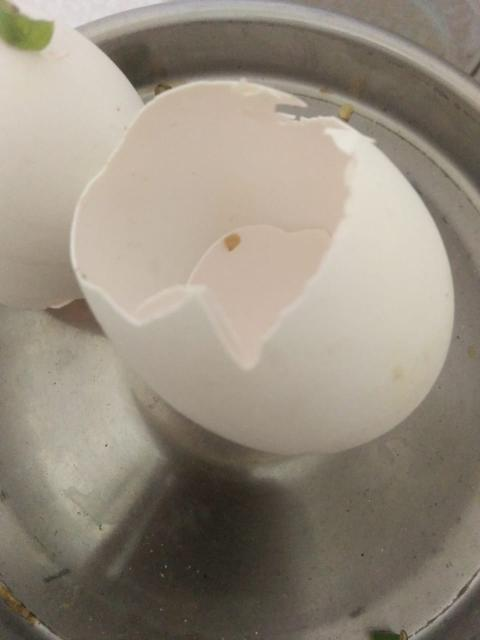Roto: (68, 78, 456, 456), (0, 0, 146, 311)
